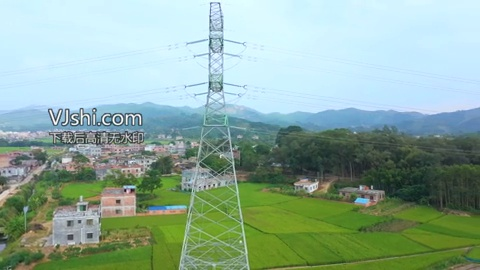tower_body: (170, 1, 258, 270)
tower_foot: (175, 207, 252, 270)
tower_head: (184, 2, 250, 106)
